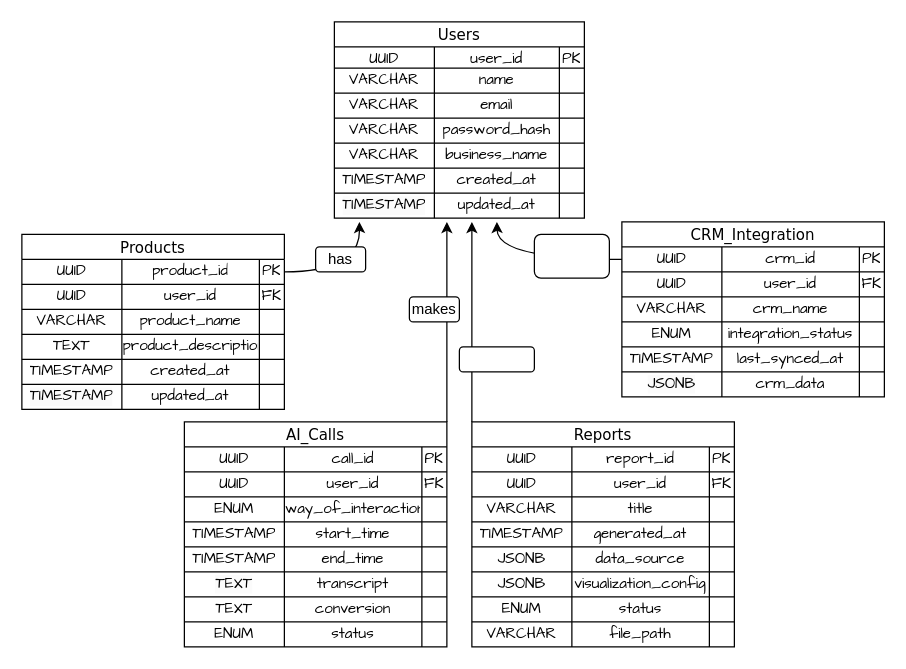
This 906x669 diagram has some shape labels left out. Each missing label, with the centre of its shape:
generates: [496,359]
Integrates with: [571,255]
